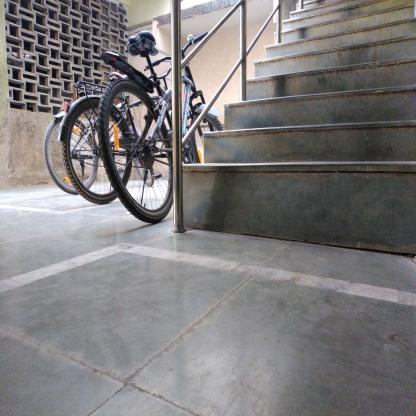stairs: (266, 45, 416, 254)
